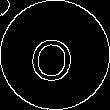O_N: (30, 27, 80, 83)
